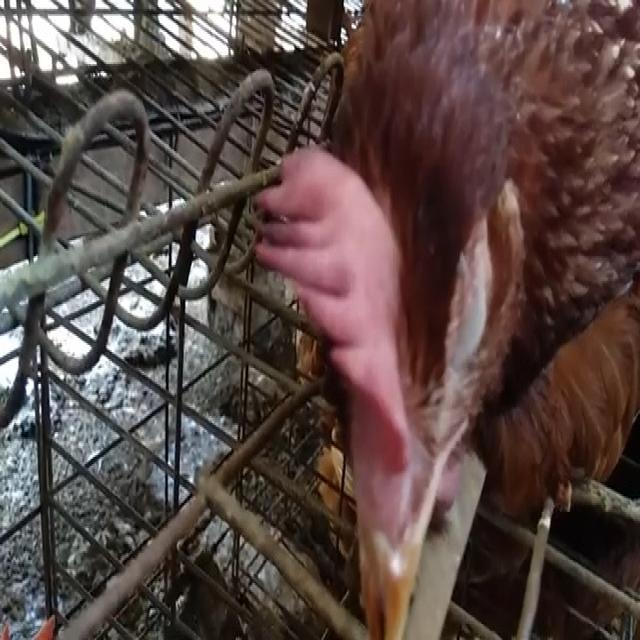bird flu: (255, 0, 640, 640)
